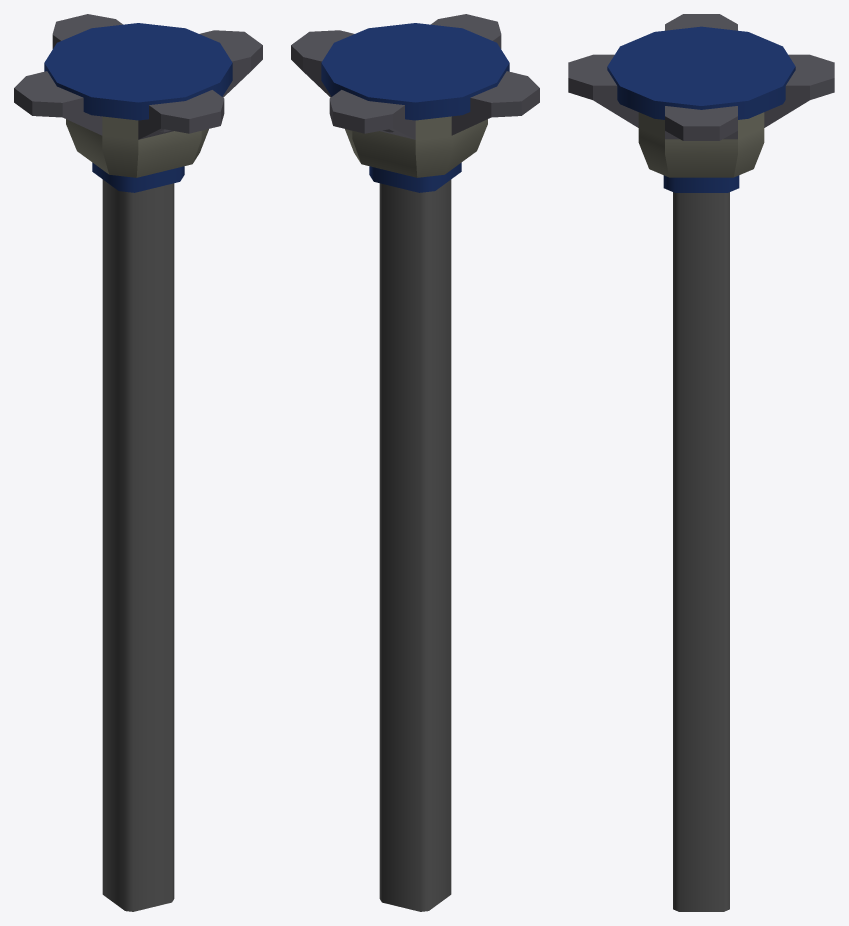
File: LPSciFi_SupportPoleThickTop.fbx
3 renders of one model, left to right at view 1: azimuth 30°, elevation 25°; view 2: azimuth 150°, elevation 25°; view 3: azimuth 270°, elevation 25°, orthographic.
Parts seen in each view (by area): view 1: SupportPoleThickTop; view 2: SupportPoleThickTop; view 3: SupportPoleThickTop.
Part boxes in pixels (box(x1,y1,x2,y2)): SupportPoleThickTop: box(14, 14, 262, 911); SupportPoleThickTop: box(291, 14, 539, 911); SupportPoleThickTop: box(568, 14, 834, 911).
Size of the model in its own units: 283 by 978 by 283.
